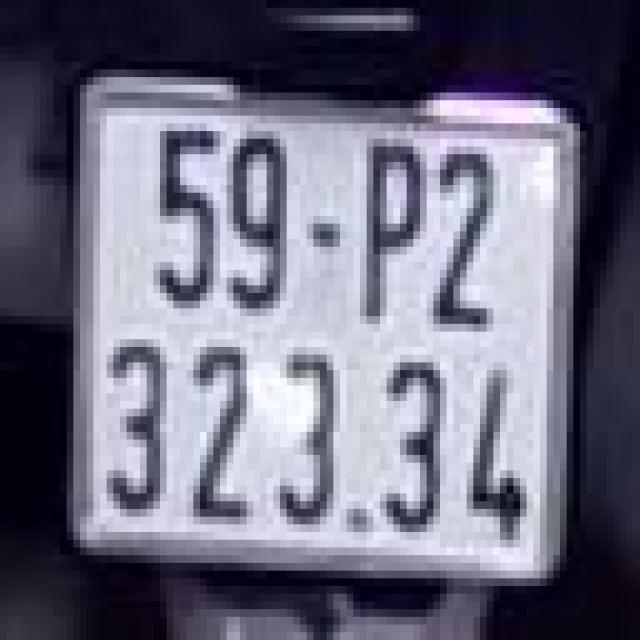2: (426, 139, 506, 339), (184, 328, 264, 528)
3: (374, 343, 454, 536), (273, 339, 347, 532), (107, 336, 173, 528)
4: (466, 351, 546, 551)
5: (153, 124, 227, 316)
9: (220, 120, 293, 320)
P: (353, 131, 427, 339)
